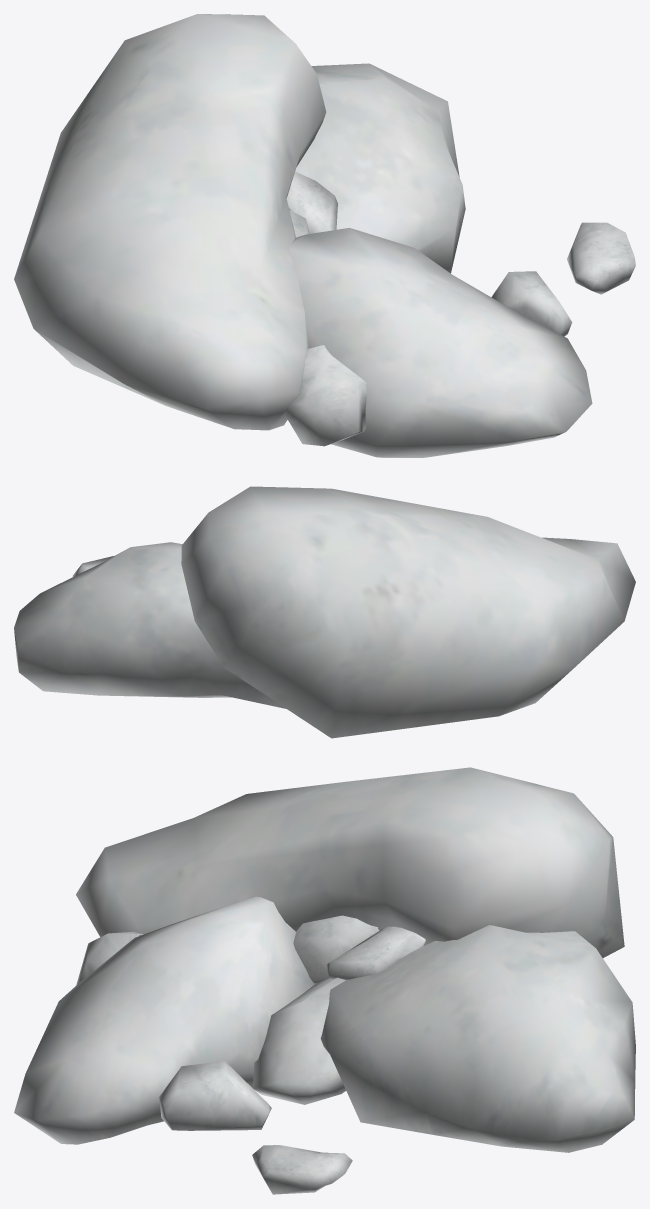
Rendered from Snowpile01.FBX.
3 views of the same model, one above another, from view 1: azimuth 30°, elevation 25°; view 2: azimuth 150°, elevation 25°; view 3: azimuth 270°, elevation 25° (orthographic). The views are drawn at different scales.
Parts seen in each view (by area): view 1: Snowpile02; view 2: Snowpile02; view 3: Snowpile02.
Part boxes in pixels (x1=…): Snowpile02: x1=14, y1=14, x2=635, y2=457; Snowpile02: x1=14, y1=486, x2=635, y2=738; Snowpile02: x1=14, y1=767, x2=635, y2=1194.
Size of the model in its own units: 826 by 407 by 751.
